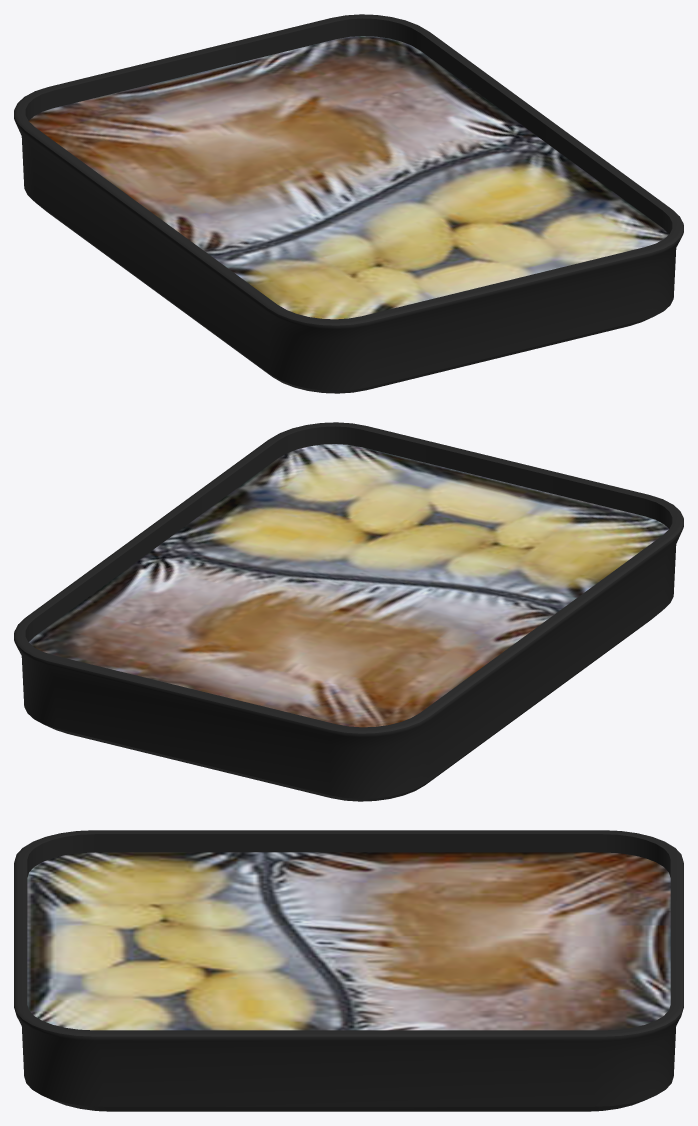
File: Prepared food 3.FBX
The picture shows the model from 3 angles, top to bottom: view 1: azimuth 30°, elevation 25°; view 2: azimuth 150°, elevation 25°; view 3: azimuth 270°, elevation 25°; orthographic projection. The views are drawn at different scales.
Parts seen in each view (by area): view 1: Prepared food 3; view 2: Prepared food 3; view 3: Prepared food 3.
Boxes of the visible parts, x1=… form: Prepared food 3: x1=14, y1=14, x2=683, y2=393; Prepared food 3: x1=14, y1=422, x2=683, y2=801; Prepared food 3: x1=14, y1=830, x2=683, y2=1111.
Bounding box in the file's own units: 15.28 × 2.87 × 20.95.
Materials: 1 (1 with a texture image).
